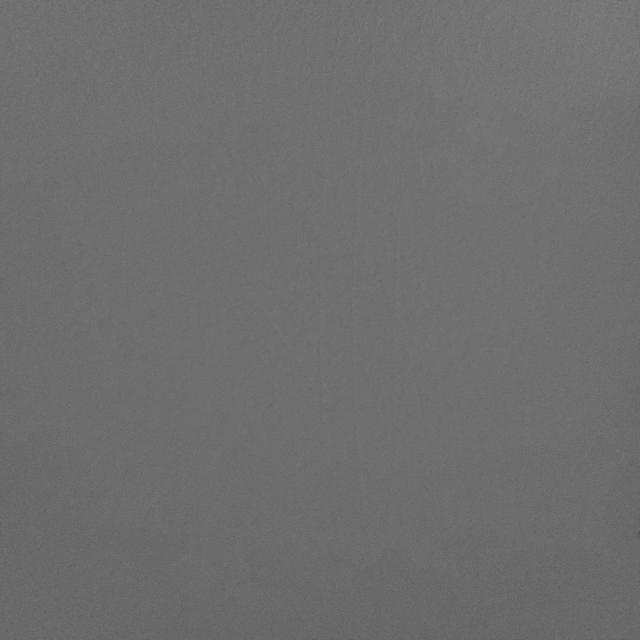rough and patchy surface: (14, 6, 632, 627)
